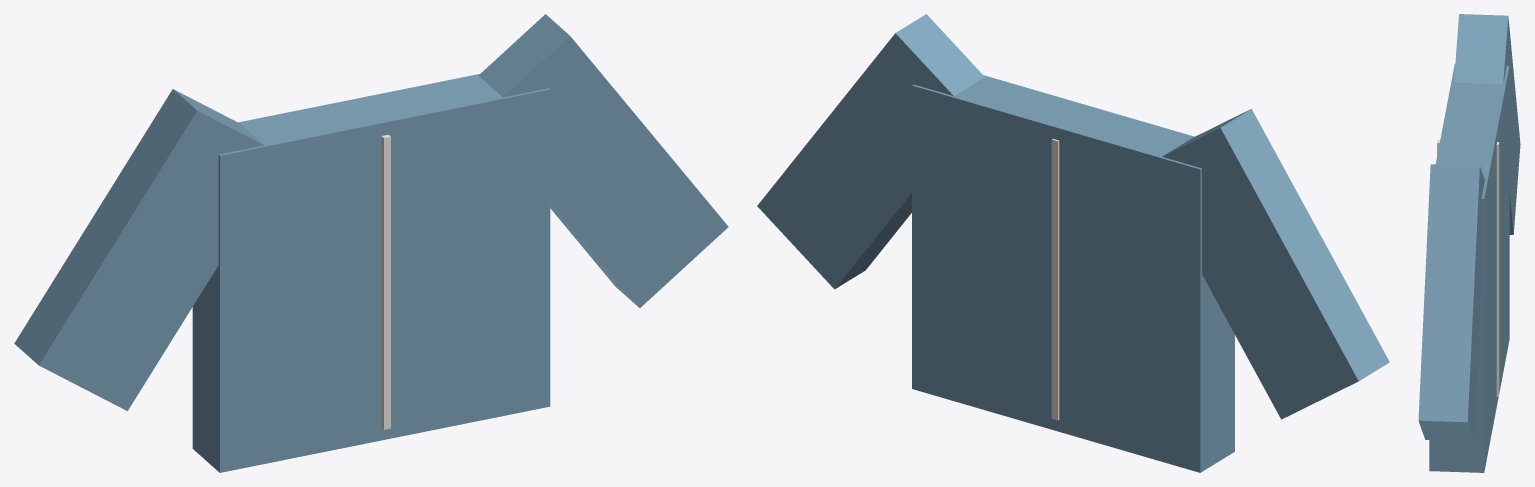
The model's file is coat-001.v1.glb.
3 renders of one model, left to right at view 1: azimuth 30°, elevation 25°; view 2: azimuth 150°, elevation 25°; view 3: azimuth 270°, elevation 25°, orthographic. The views are drawn at different scales.
Parts seen in each view (by area): view 1: Garment; view 2: Garment; view 3: Garment.
Part boxes in pixels (x1,y1,x2,y2): Garment: [14, 14, 728, 472]; Garment: [757, 14, 1389, 472]; Garment: [1418, 14, 1520, 472].
Bounding box in the file's own units: 2.41 × 1.27 × 0.3713.
